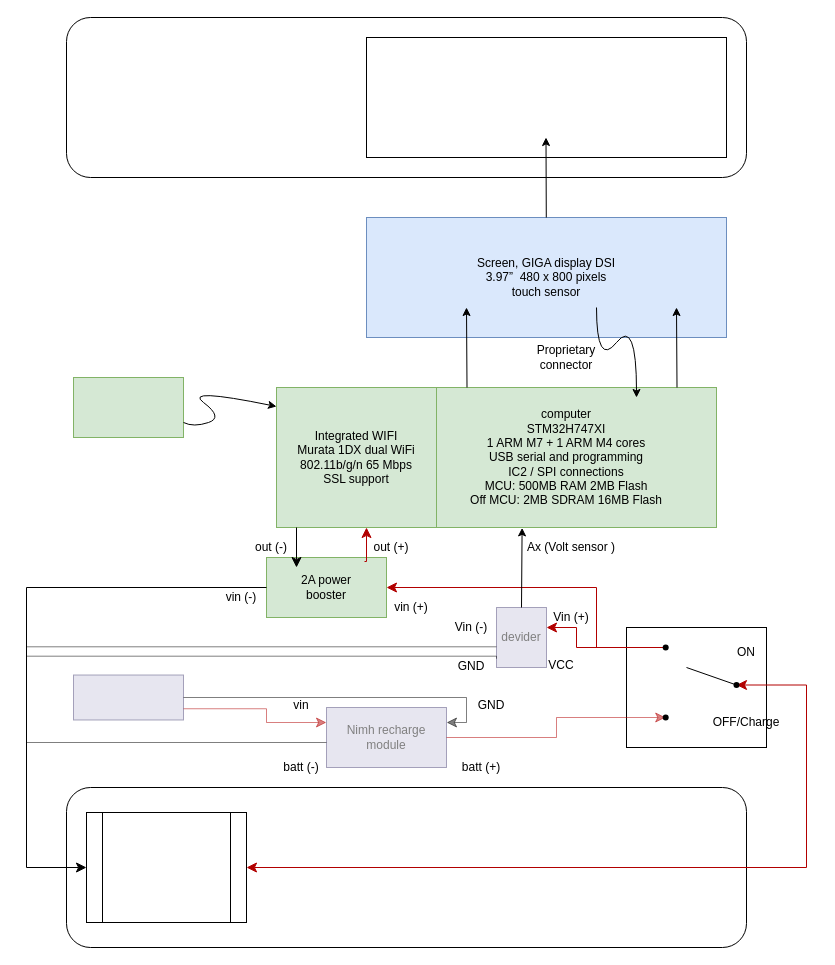
Image size: 835x965. Some labels were removed from this diagram. Each missing label, with the centre of its shape:
3 X AA Nimh battery 2000mA X 1hr = 6hrs run time: pixel 166 867
RTC clock with 2032 battery: pixel 128 407
USBC charge connector: pixel 128 697
